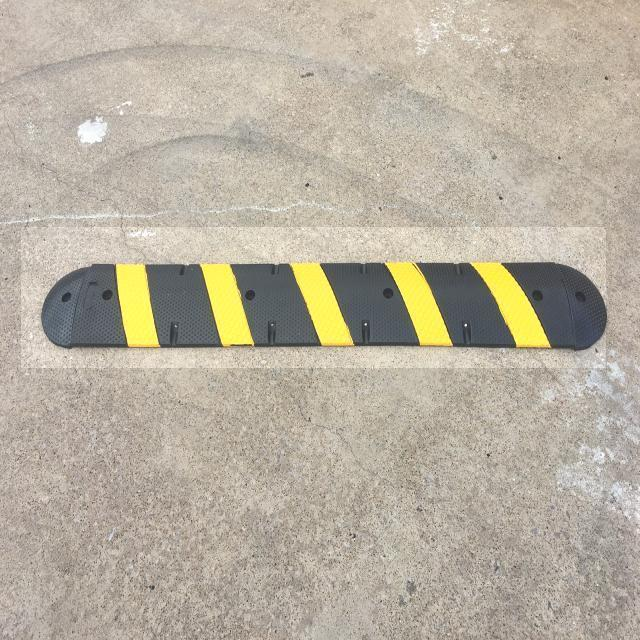Marked Bump: (67, 233, 585, 367)
